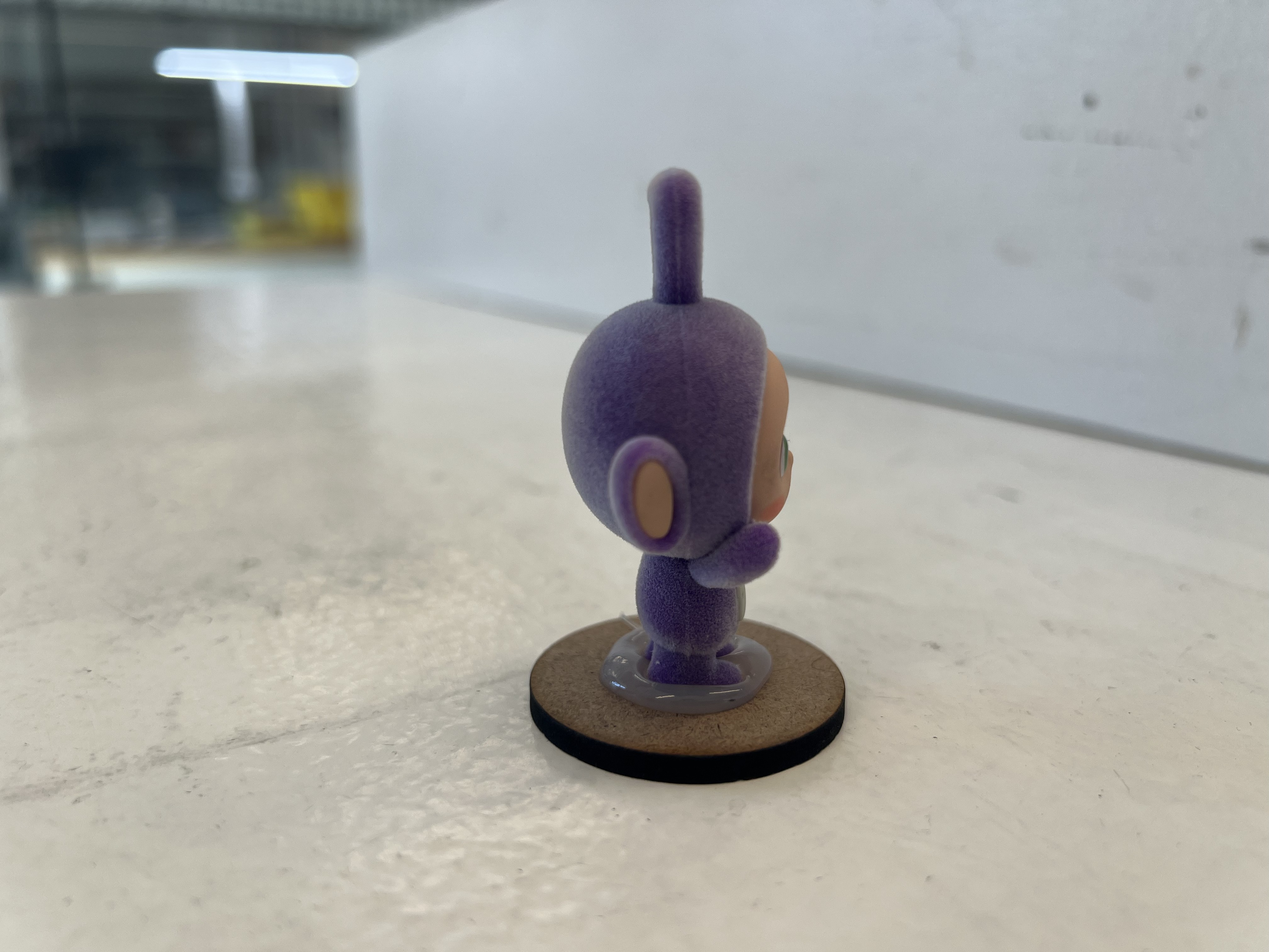teletubby: (562, 169, 792, 686)
